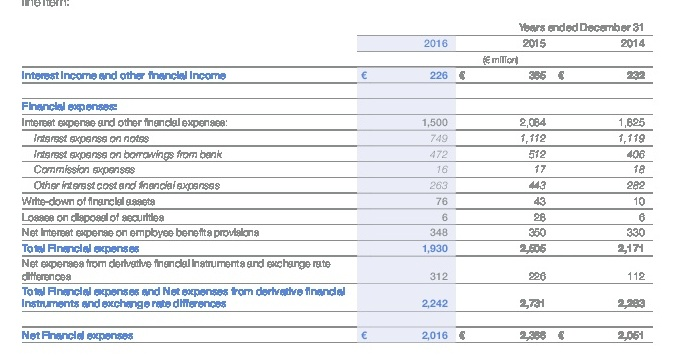table: (0, 0, 674, 362)
